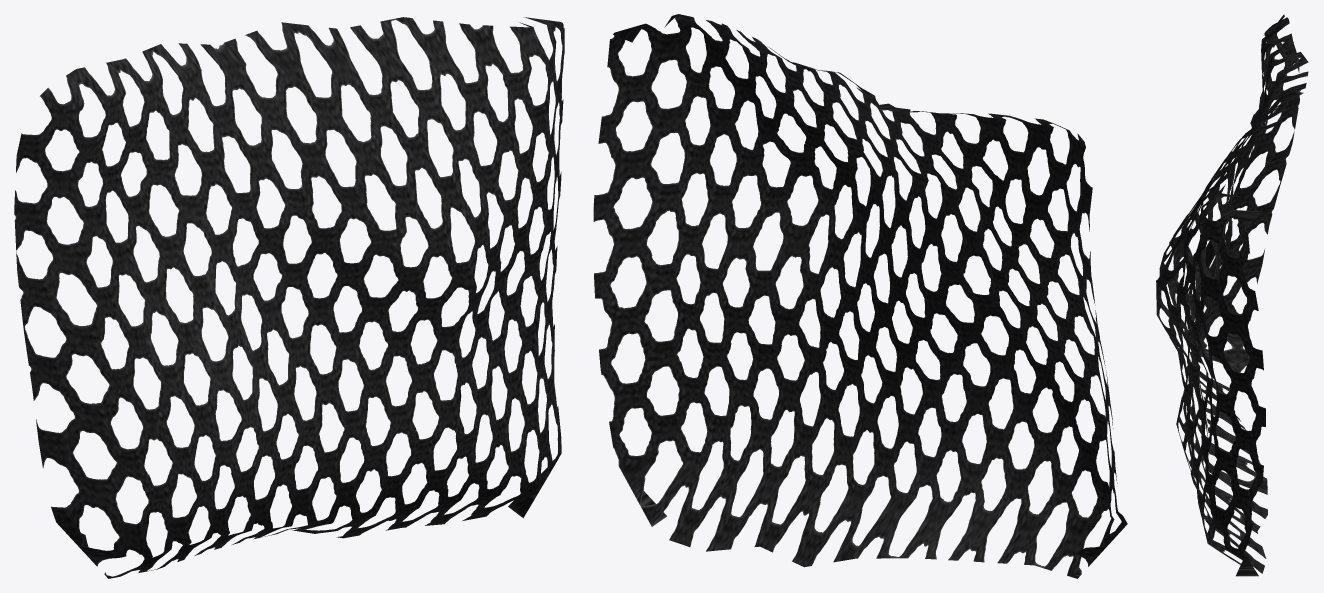
Rendered from FishingNet.fbx.
3 views of the same model, side by side, from view 1: azimuth 30°, elevation 25°; view 2: azimuth 150°, elevation 25°; view 3: azimuth 270°, elevation 25° (orthographic). The views are drawn at different scales.
Visible parts, largest first — view 1: pPlane1; view 2: pPlane1; view 3: pPlane1.
Part boxes in pixels (x1,y1,x2,y2): pPlane1: (14,17,564,578); pPlane1: (593,14,1127,578); pPlane1: (1156,14,1308,576).
Size of the model in its own units: 7.17 by 6.91 by 2.36.
1 material, 1 textured.
